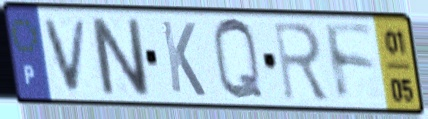F: (321, 19, 379, 106)
K: (158, 17, 209, 100)
N: (86, 14, 154, 100)
Q: (210, 15, 267, 105)
R: (270, 19, 332, 104)
V: (41, 17, 91, 95)
